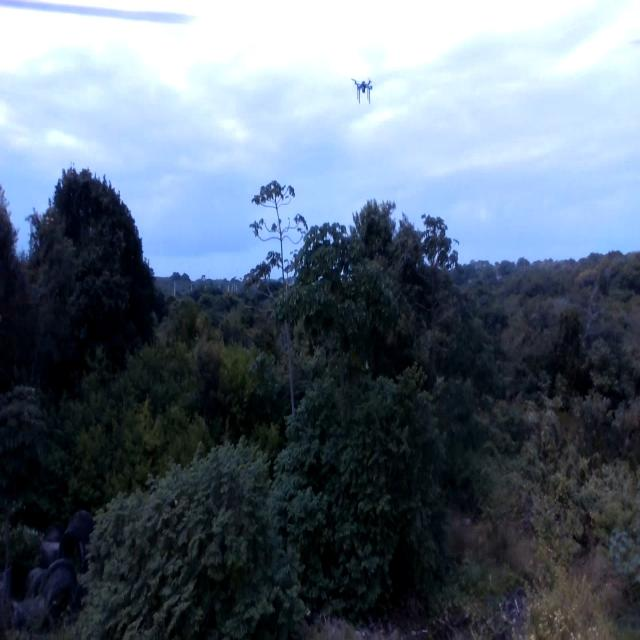-uav-: (343, 65, 385, 117)
